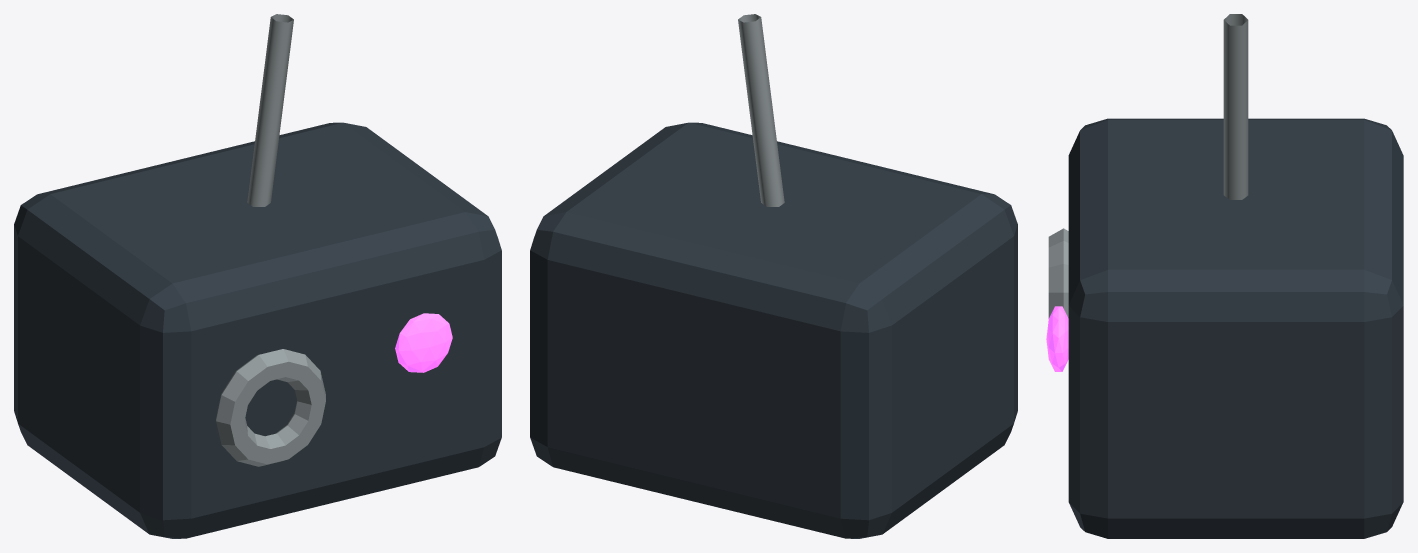
Rendered from Find_RadioWhisper.glb.
3 renders of one model, left to right at view 1: azimuth 30°, elevation 25°; view 2: azimuth 150°, elevation 25°; view 3: azimuth 270°, elevation 25°, orthographic. The views are drawn at different scales.
Parts seen in each view (by area): view 1: Find_RadioWhisper, Find_RadioWhisper_Dial, Find_RadioWhisper_Antenna, Find_RadioWhisper_SignalLight; view 2: Find_RadioWhisper, Find_RadioWhisper_Antenna; view 3: Find_RadioWhisper, Find_RadioWhisper_Antenna, Find_RadioWhisper_Dial, Find_RadioWhisper_SignalLight.
Boxes of the visible parts, <box> form: Find_RadioWhisper: <box>14,122,501,538</box>; Find_RadioWhisper_Dial: <box>216,349,325,466</box>; Find_RadioWhisper_Antenna: <box>247,14,293,206</box>; Find_RadioWhisper_SignalLight: <box>395,313,452,372</box>; Find_RadioWhisper: <box>530,122,1017,538</box>; Find_RadioWhisper_Antenna: <box>738,14,784,206</box>; Find_RadioWhisper: <box>1068,118,1403,538</box>; Find_RadioWhisper_Antenna: <box>1223,14,1248,199</box>; Find_RadioWhisper_Dial: <box>1048,228,1068,318</box>; Find_RadioWhisper_SignalLight: <box>1046,306,1068,371</box>.
Bounding box in the file's own units: 0.88 × 1.02 × 0.725.
